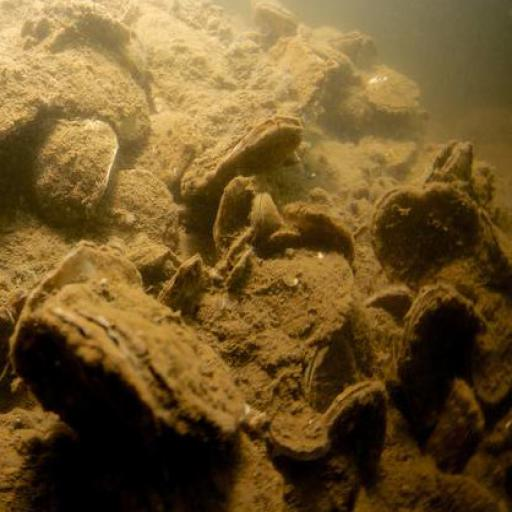Oyster-Closed: (15, 287, 248, 460), (221, 244, 355, 366), (21, 119, 122, 228), (46, 49, 153, 138), (21, 247, 146, 319), (94, 171, 180, 262), (157, 259, 224, 320), (1, 64, 44, 140), (302, 213, 361, 258)
Oyster-Open: (370, 186, 512, 333), (393, 280, 489, 439), (181, 119, 304, 203), (321, 385, 388, 478), (278, 41, 335, 126), (273, 402, 332, 463), (358, 70, 420, 114), (425, 137, 475, 186), (336, 31, 379, 69), (252, 2, 295, 35)
